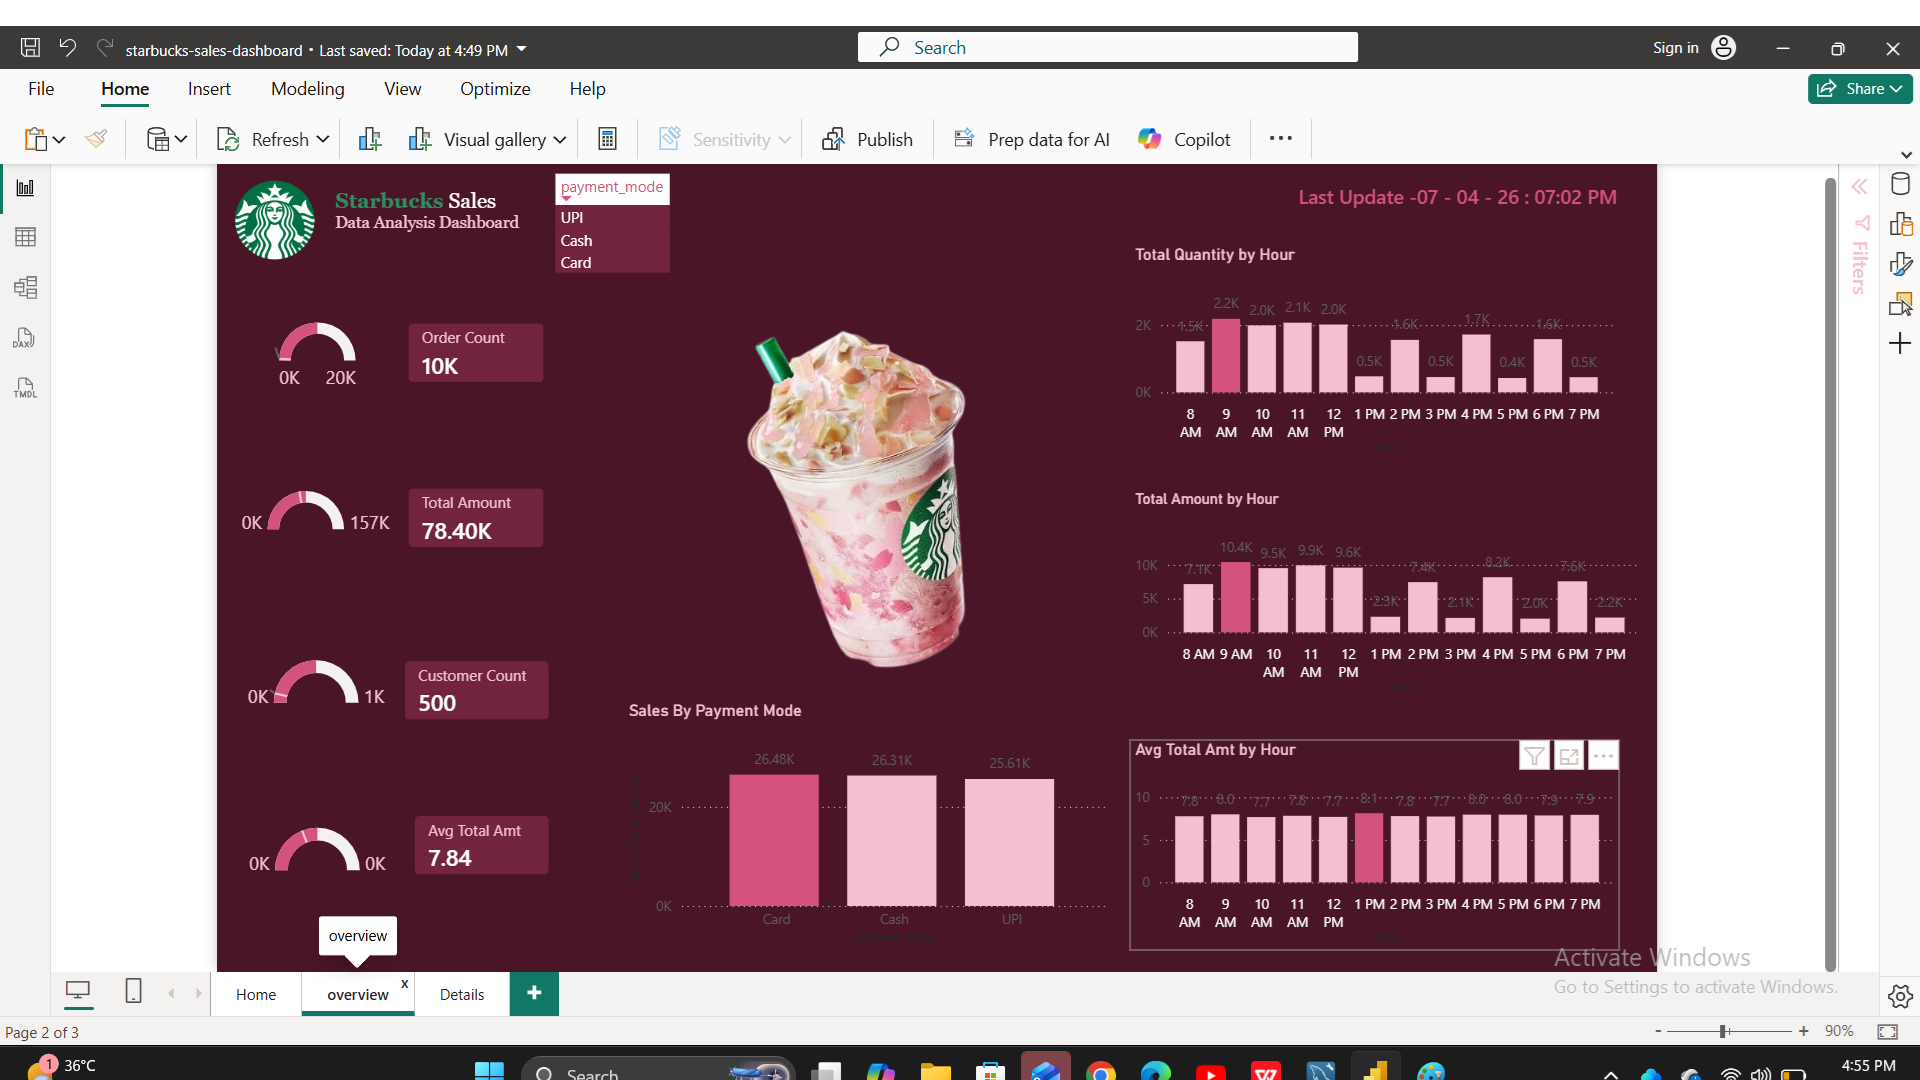

Layout of this report page (visuals, bound fields, positions):
{"tool":"powerbi","page":{"name":"overview","canvas":[1280,720],"ordinal":1},"visuals":[{"type":"image","box":[12,0,78,103],"z":0},{"type":"textbox","box":[100,19,300,65],"z":1000},{"type":"cardVisual","fields":{"Data":["_Measures.Orders_Count"]},"box":[153.3,126.7,154.4,86.7],"z":2000},{"type":"cardVisual","fields":{"Data":["_Measures.Total_Amount"]},"box":[153.3,273.3,154.4,86.7],"z":3000},{"type":"cardVisual","fields":{"Data":["_Measures.Customers_Count"]},"box":[150,426.7,162.2,86.7],"z":4000},{"type":"cardVisual","fields":{"Data":["_Measures.Avg_Total_Amt"]},"box":[158.9,564.4,153.3,86.7],"z":5000},{"type":"image","box":[400,134.4,336.7,330],"z":6000},{"type":"clusteredColumnChart","title":"Total Amount by Hour","fields":{"Y":["_Measures.Total_Amount"],"Category":["Calendar.Hour"]},"box":[811.1,292.2,458.9,186.7],"z":7000},{"type":"clusteredColumnChart","title":"Avg Total Amt by Hour","fields":{"Y":["_Measures.Avg_Total_Amt"],"Category":["Calendar.Hour"]},"box":[811.1,513.3,435.6,187.8],"z":8000},{"type":"clusteredColumnChart","title":"Total Quantity by Hour","fields":{"Y":["_Measures.Total_Quantity"],"Category":["Calendar.Hour"]},"box":[811.1,73.3,434.4,192.2],"z":9000},{"type":"cardVisual","fields":{"Data":["_Measures.format_max_date"]},"box":[932.2,0,348.8,58.8],"z":10000},{"type":"clusteredColumnChart","title":"Sales By Payment Mode","fields":{"Category":["sales.payment_mode"],"Y":["Sum(sales.total_amount)"]},"box":[361.1,478.9,434.4,222.2],"z":11000},{"type":"gauge","fields":{"Y":["_Measures.Avg_Total_Amt"],"TargetValue":["_Measures.avg_amt_target"]},"box":[18.9,575.6,141.1,75.6],"z":12000},{"type":"gauge","fields":{"Y":["_Measures.Order_Count"],"TargetValue":["_Measures.Total_Order_Target"]},"box":[18.9,137.8,141.1,75.6],"z":13000},{"type":"gauge","fields":{"Y":["_Measures.Total_Amount"],"TargetValue":["_Measures.Total_Amt_Target"]},"box":[12.7,274.2,151.1,75.6],"z":14000},{"type":"gauge","fields":{"Y":["_Measures.Customers_Count"],"TargetValue":["_Measures.Customer_Order_Target"]},"box":[17.8,426.7,141.1,75.6],"z":15000},{"type":"tableEx","fields":{"Values":["sales.payment_mode"]},"box":[294.4,5.6,134.4,106.7],"z":17000}]}

Visuals, with their boxes on the page's 1280x720 design canvas (x1, y1, x2, y2). These are canvas units, not pixel positions in the 1920x1080 screenshot, which may show the page scaled, cropped or inside an application window:
image: bbox=[12, 0, 90, 103]
textbox: bbox=[100, 19, 400, 84]
cardVisual - _Measures.Orders_Count: bbox=[153, 127, 308, 213]
cardVisual - _Measures.Total_Amount: bbox=[153, 273, 308, 360]
cardVisual - _Measures.Customers_Count: bbox=[150, 427, 312, 513]
cardVisual - _Measures.Avg_Total_Amt: bbox=[159, 564, 312, 651]
image: bbox=[400, 134, 737, 464]
"Total Amount by Hour" clusteredColumnChart: bbox=[811, 292, 1270, 479]
"Avg Total Amt by Hour" clusteredColumnChart: bbox=[811, 513, 1247, 701]
"Total Quantity by Hour" clusteredColumnChart: bbox=[811, 73, 1246, 266]
cardVisual - _Measures.format_max_date: bbox=[932, 0, 1281, 59]
"Sales By Payment Mode" clusteredColumnChart: bbox=[361, 479, 796, 701]
gauge - _Measures.Avg_Total_Amt x _Measures.avg_amt_target: bbox=[19, 576, 160, 651]
gauge - _Measures.Order_Count x _Measures.Total_Order_Target: bbox=[19, 138, 160, 213]
gauge - _Measures.Total_Amount x _Measures.Total_Amt_Target: bbox=[13, 274, 164, 350]
gauge - _Measures.Customers_Count x _Measures.Customer_Order_Target: bbox=[18, 427, 159, 502]
tableEx - sales.payment_mode: bbox=[294, 6, 429, 112]
